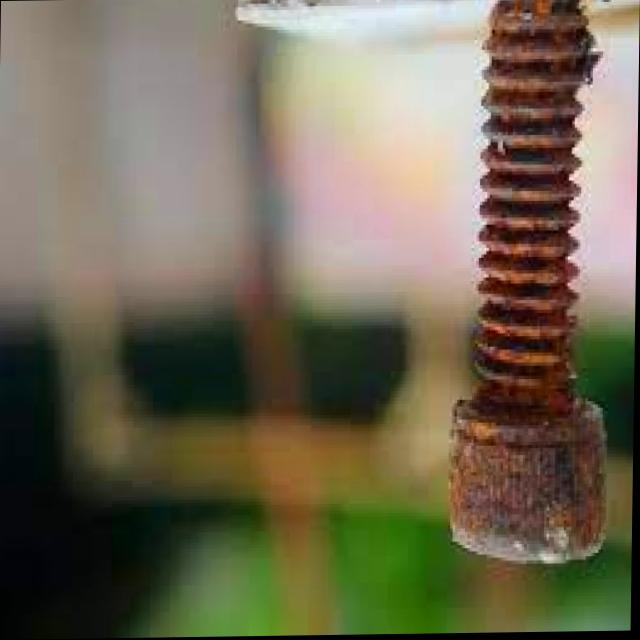Rusty bolt: (451, 350, 610, 568)
